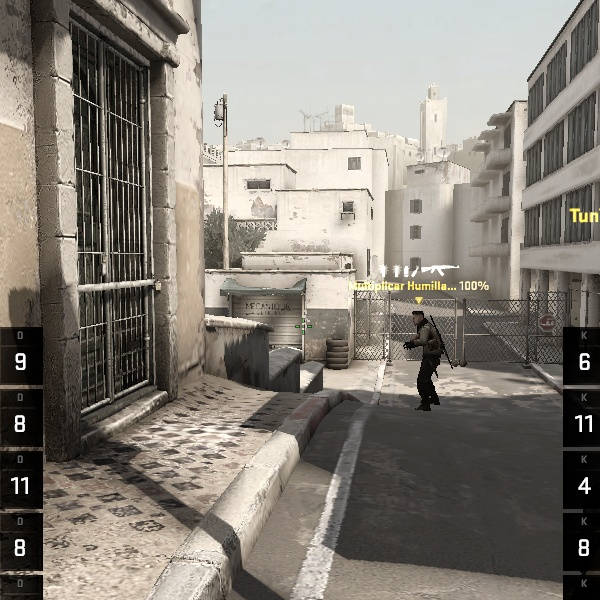t_body: (393, 305, 456, 412)
t_head: (406, 306, 430, 331)
